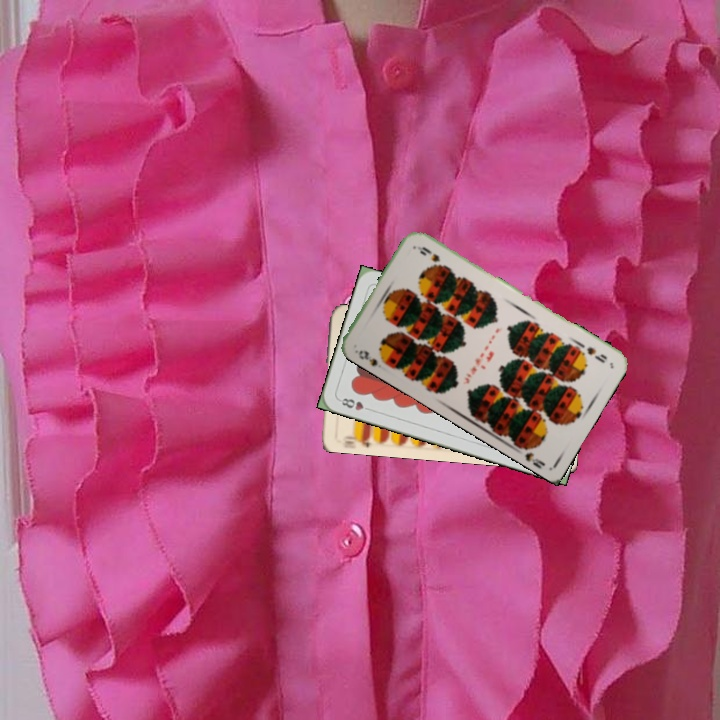E10: (339, 429, 373, 450)
H8: (335, 394, 374, 414)
S9: (574, 339, 610, 366), (354, 346, 391, 369)
